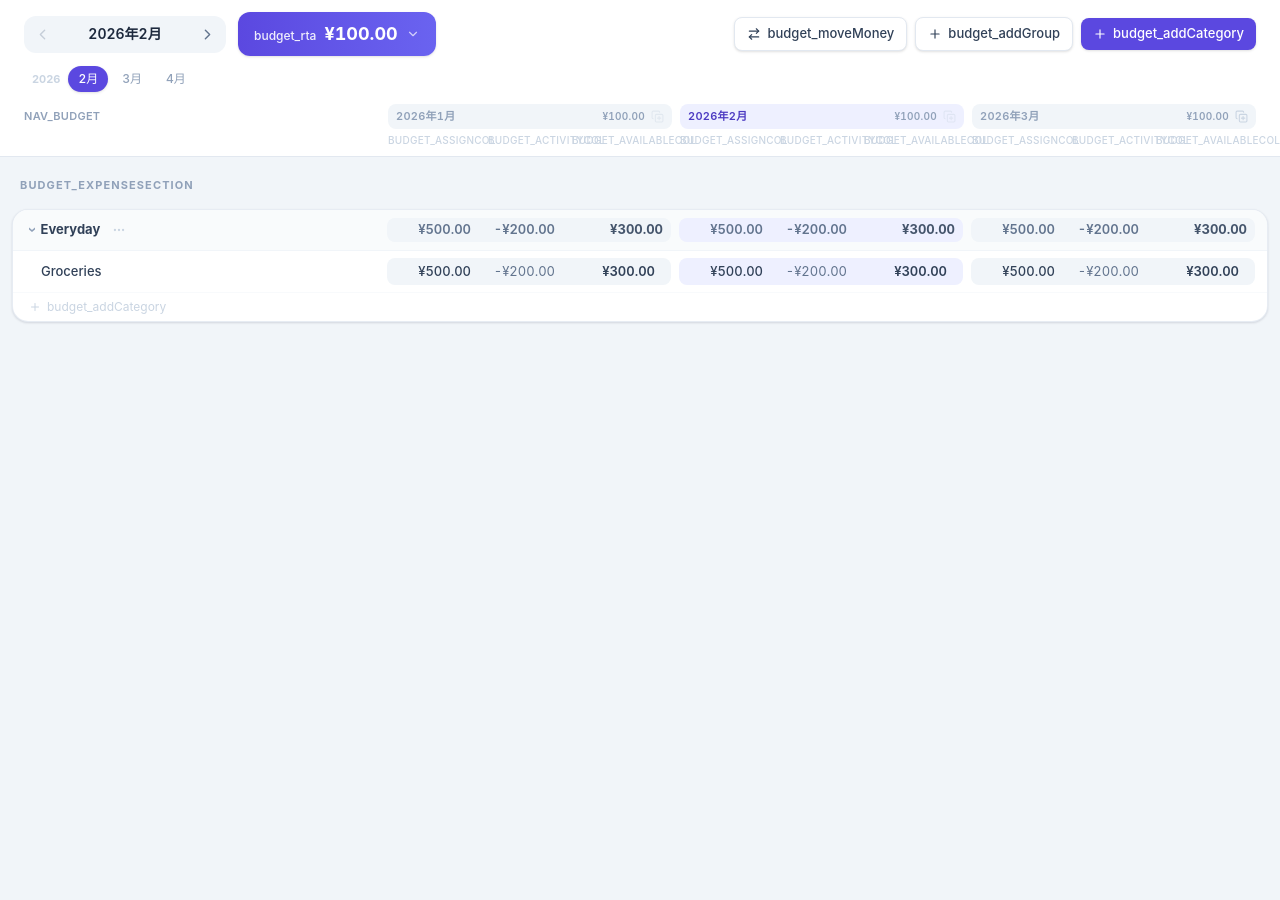
Scenario: BudgetPage Inspector responsive layout › closes the drawer when Escape is pressed
Click the text "Groceries".
click(71, 270)  # box [41, 262, 102, 278]
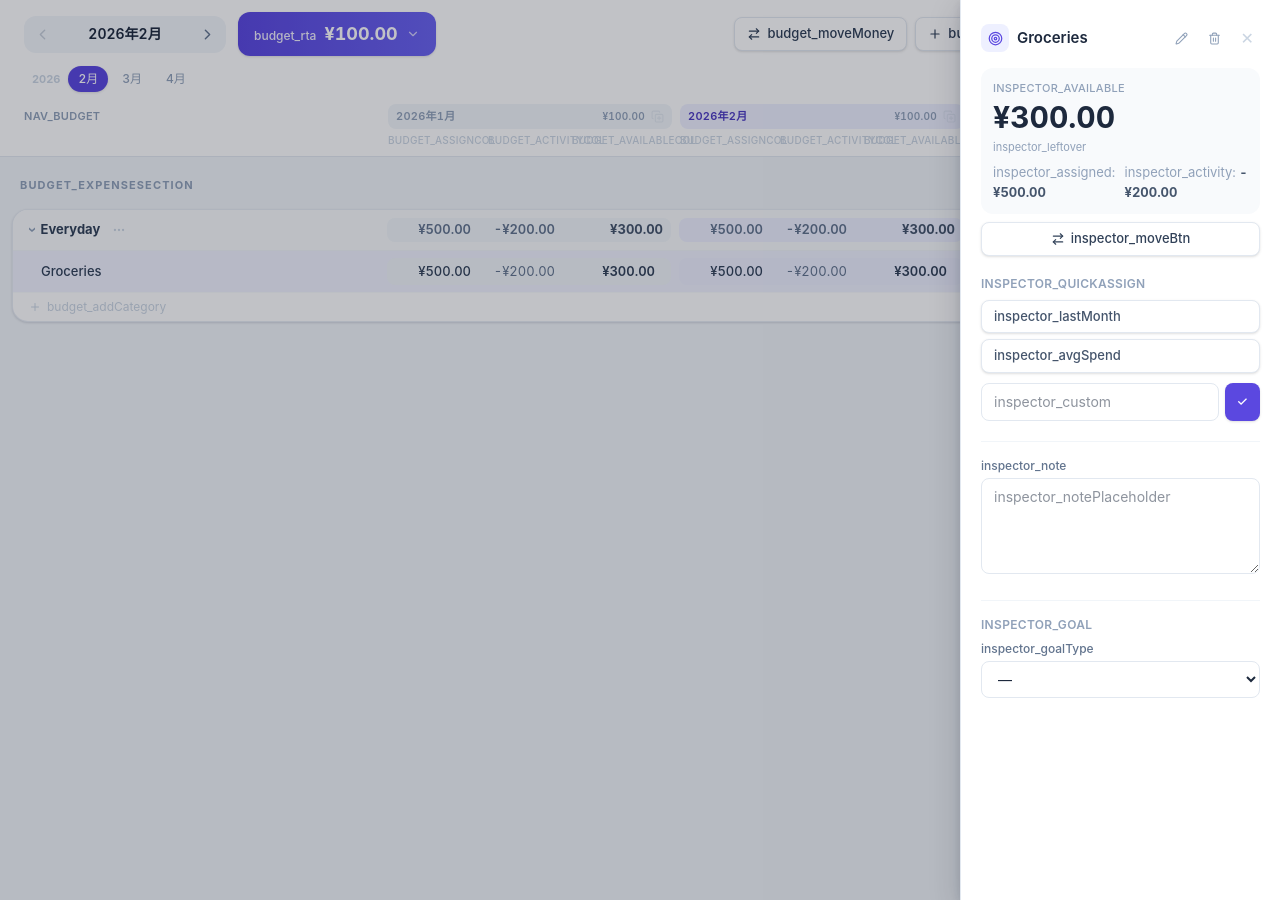
Result: the dialog is shown at [960, 0, 1279, 899]
Press Escape
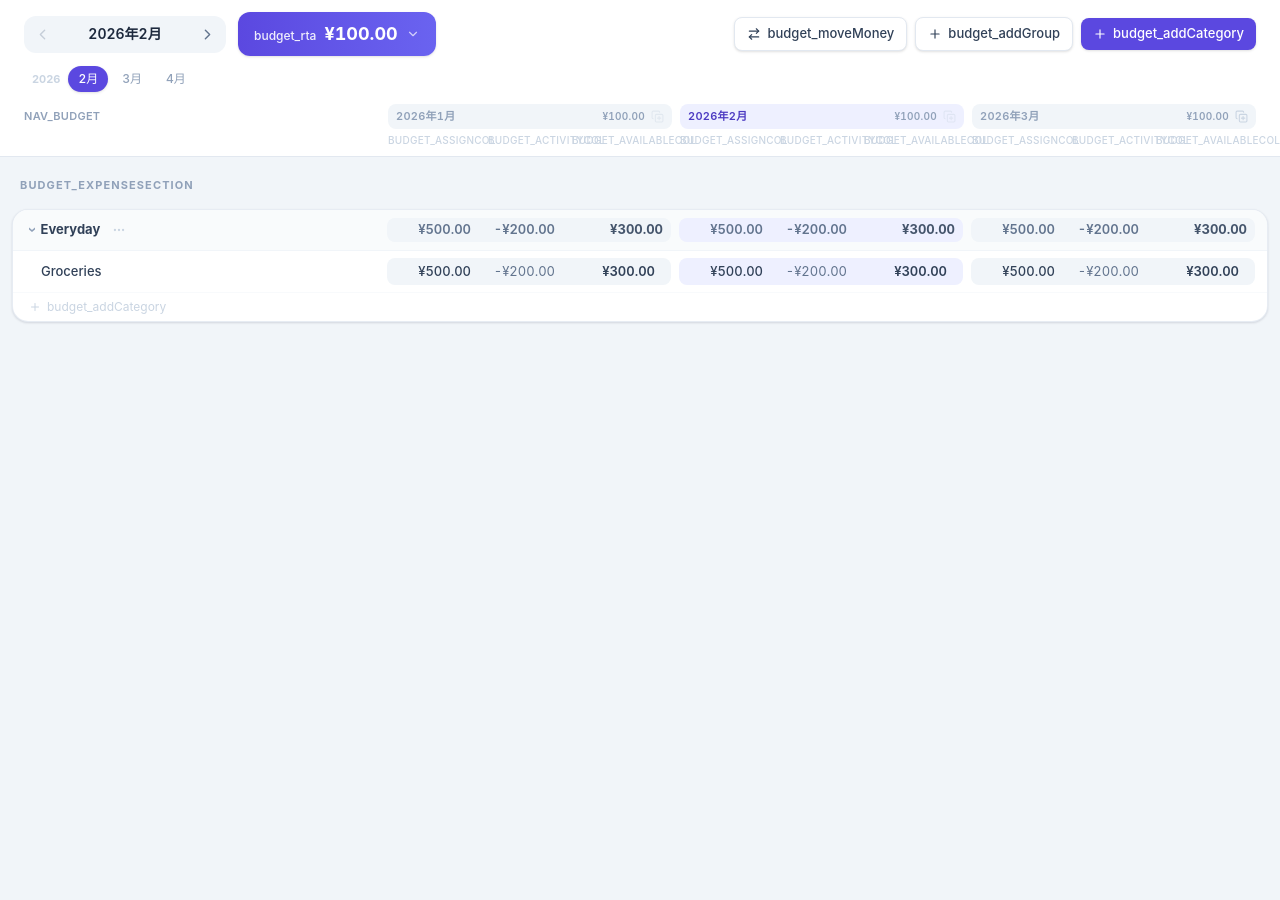
Result: the dialog is gone
